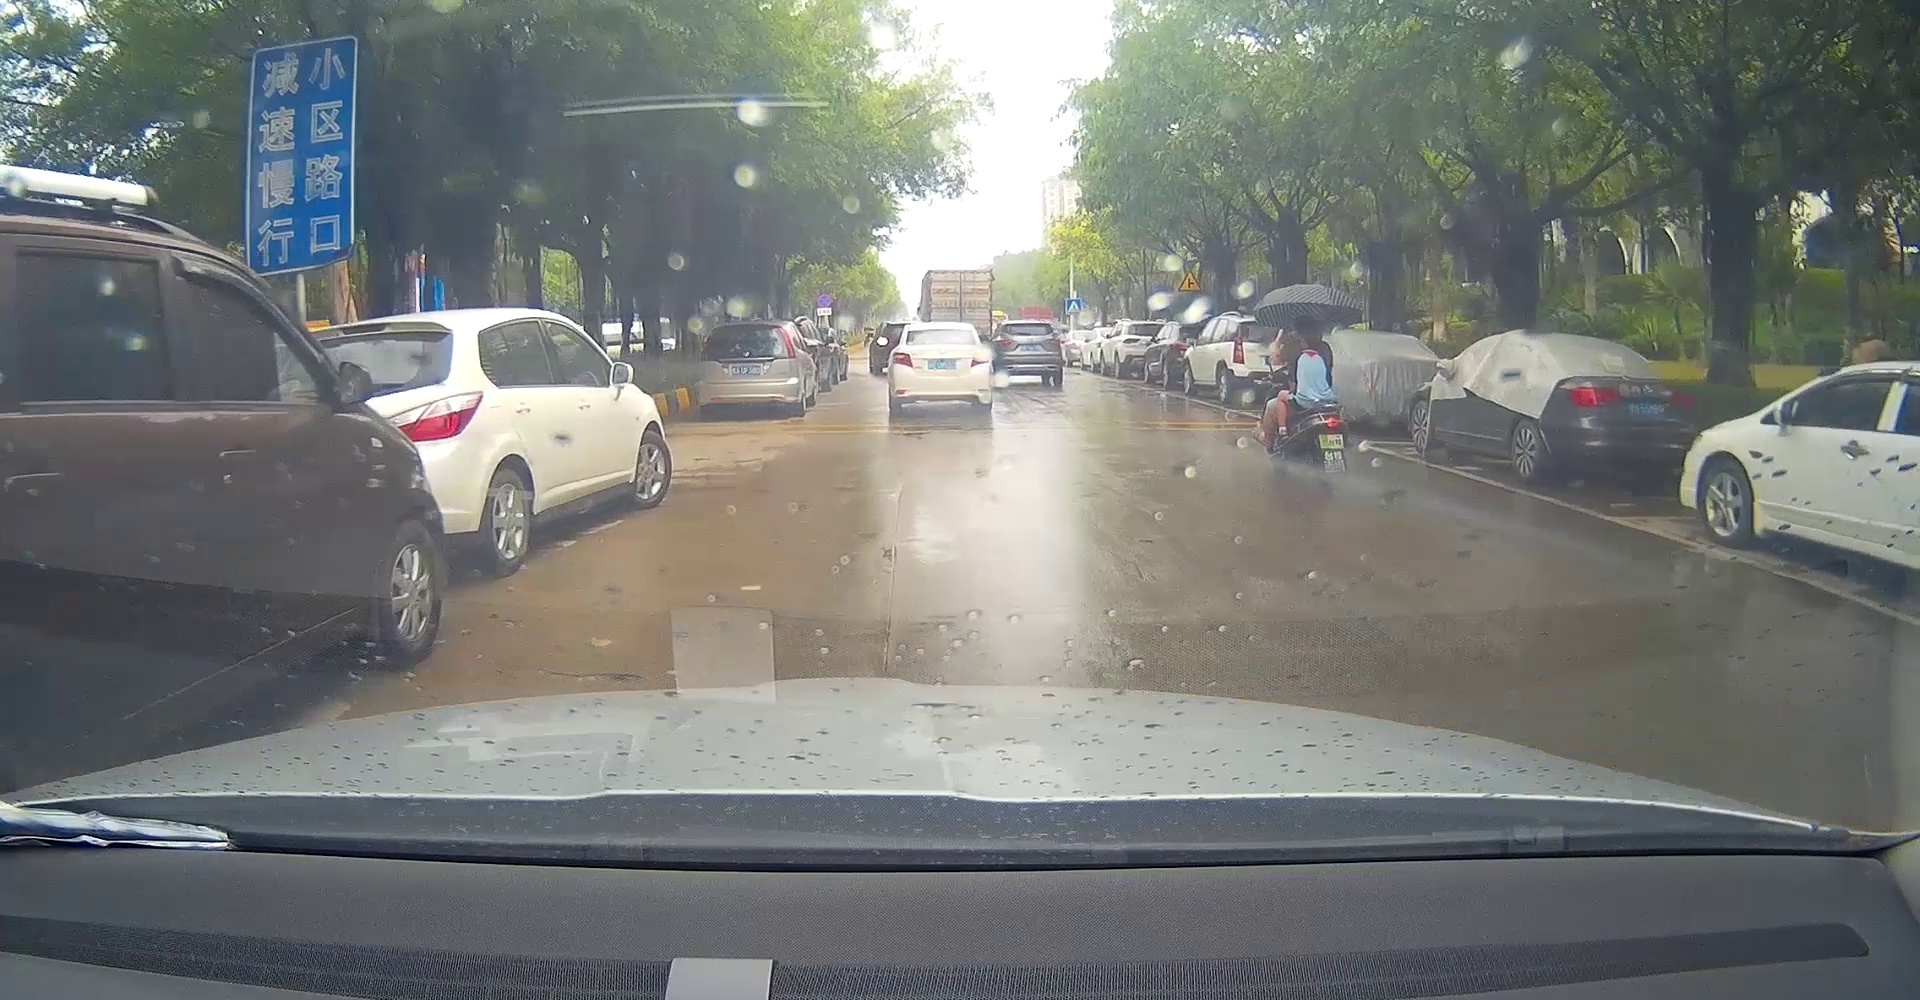L_light: (701, 327, 712, 360), (893, 352, 913, 367), (994, 339, 1012, 346)
R_light: (778, 327, 796, 358), (969, 352, 989, 367), (1046, 338, 1060, 346)
T_light: (933, 329, 949, 335), (739, 324, 754, 329), (1020, 324, 1032, 327)
day-no: (698, 322, 801, 415), (888, 324, 992, 412), (993, 320, 1063, 385)
